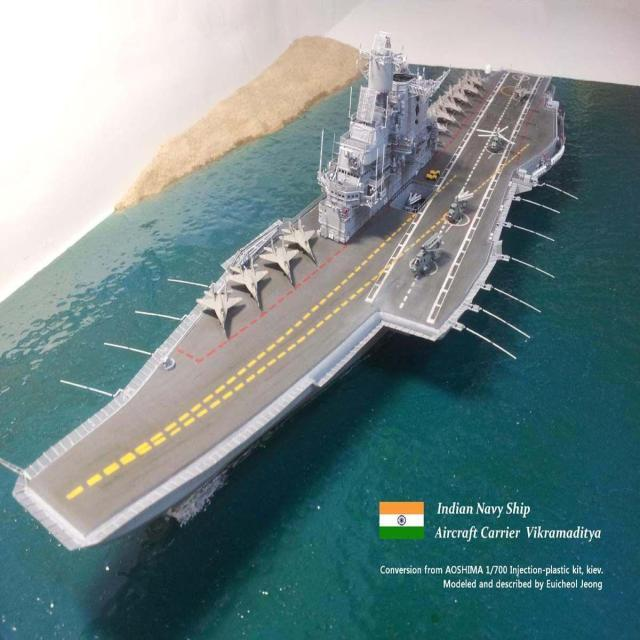Aircraft-Carrier-Kiev Class-IND: (13, 31, 567, 553)
